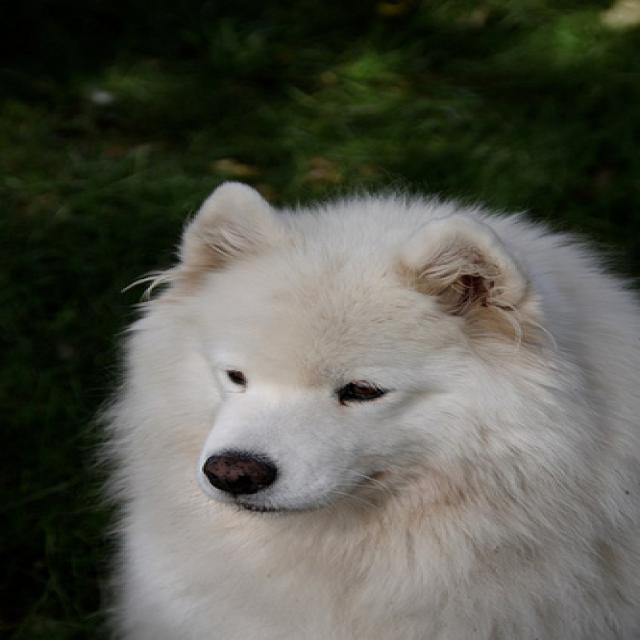dog-samoyed: (81, 170, 636, 637)
